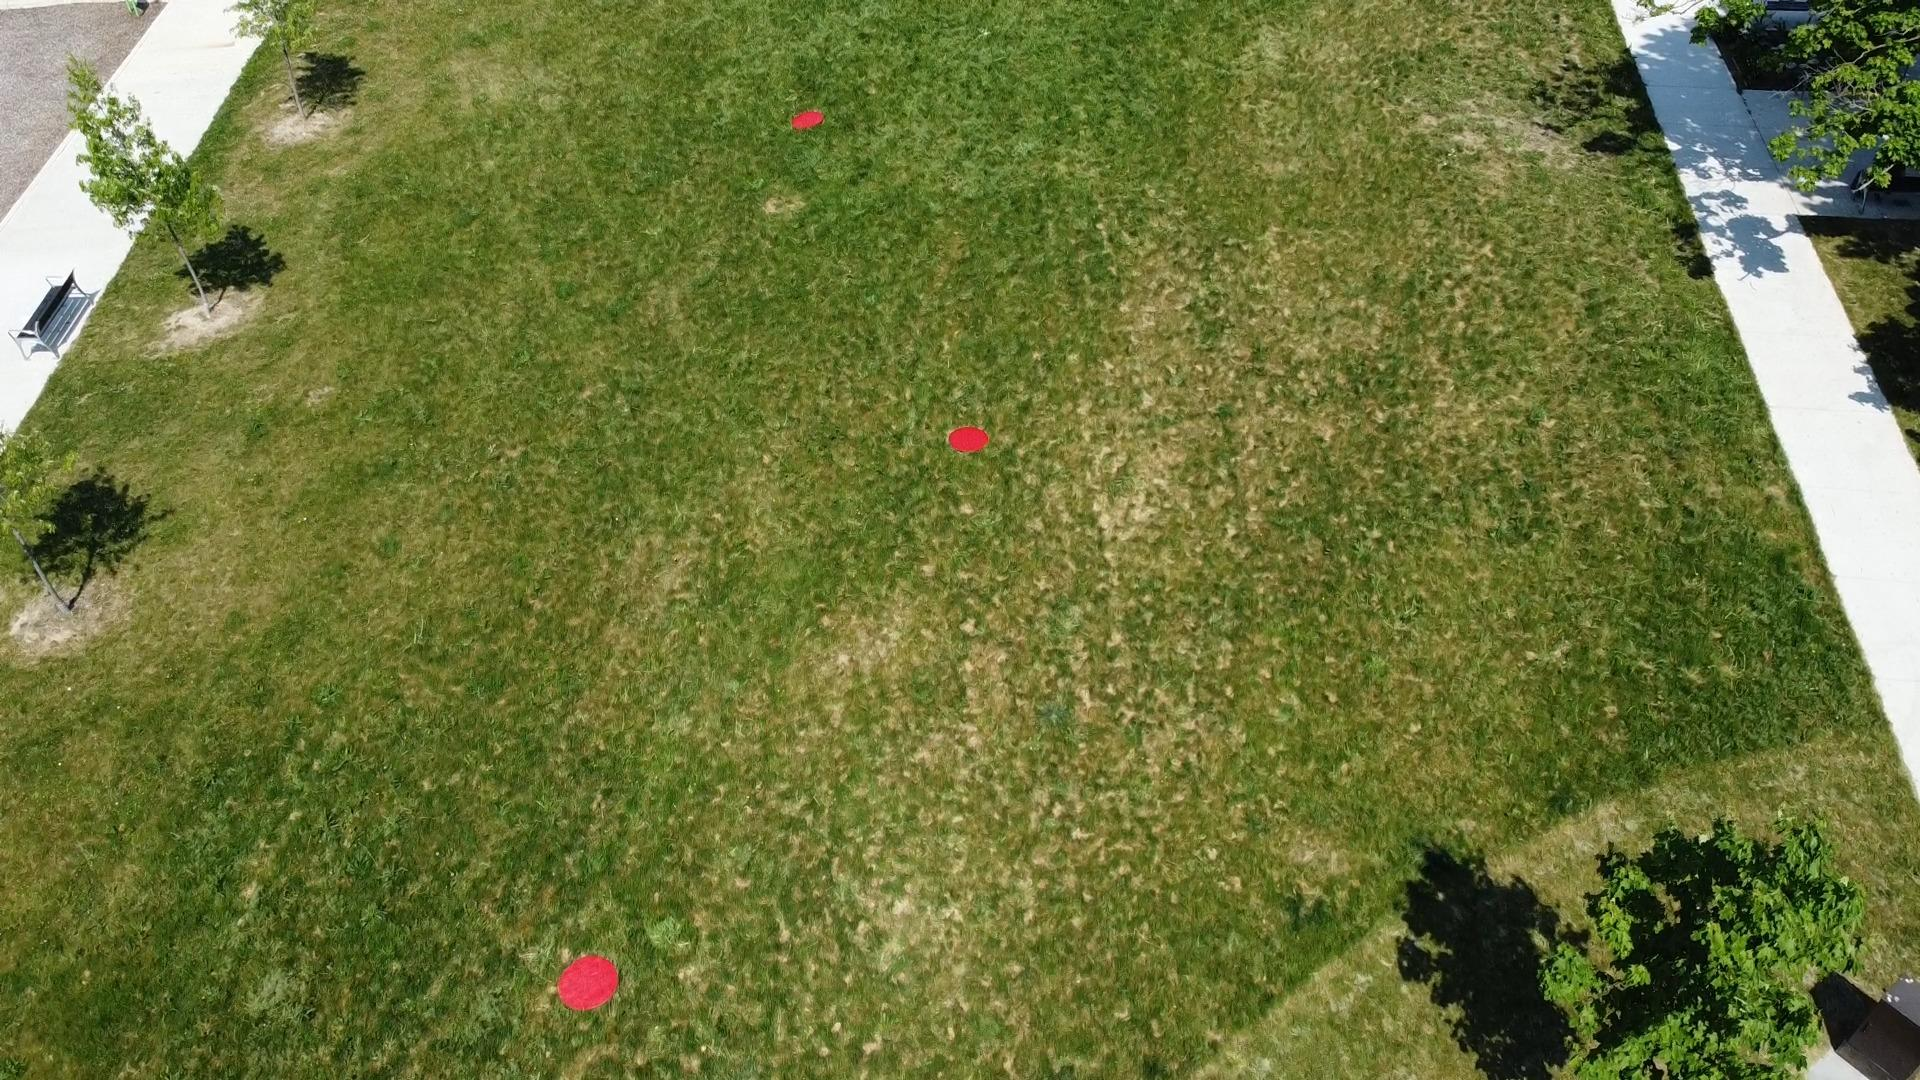Red: (554, 953, 625, 1013), (947, 423, 992, 458), (790, 109, 828, 132)
